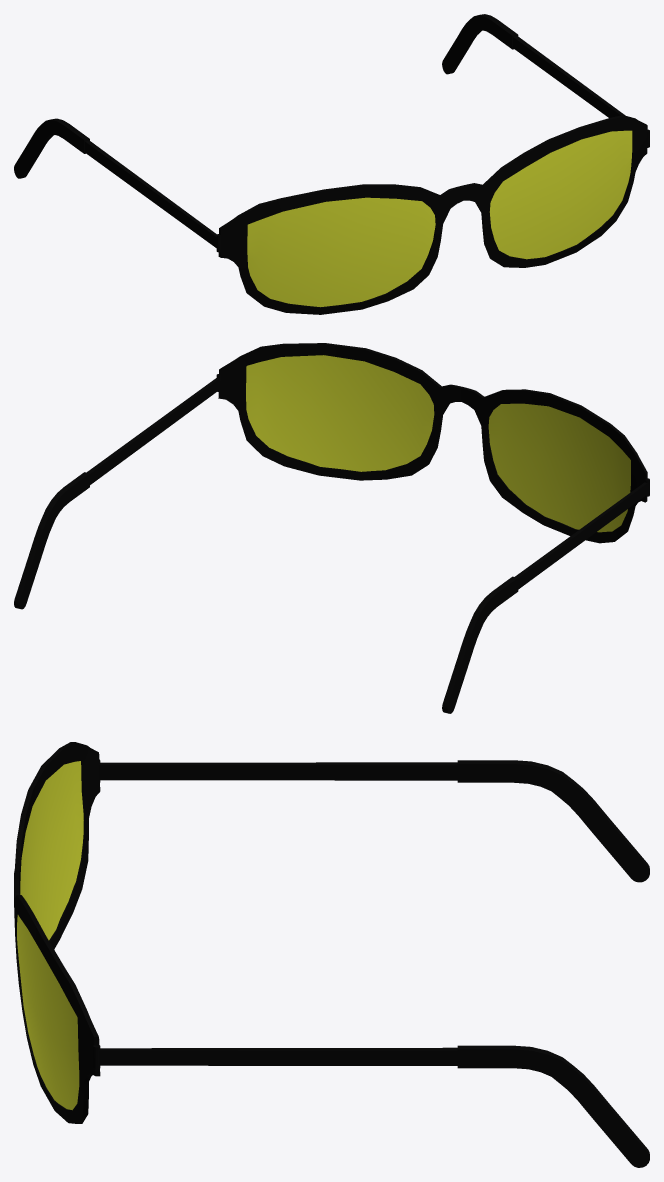
The model's file is glasses8.001.fbx.
3 renders of one model, top to bottom at view 1: azimuth 30°, elevation 25°; view 2: azimuth 150°, elevation 25°; view 3: azimuth 270°, elevation 25°, orthographic. The views are drawn at different scales.
Parts seen in each view (by area): view 1: glasses8.001; view 2: glasses8.001; view 3: glasses8.001.
Part boxes in pixels (<box>): glasses8.001: <box>14,14,649,314</box>; glasses8.001: <box>14,343,649,713</box>; glasses8.001: <box>14,742,649,1167</box>.
Bounding box in the file's own units: 1.99 × 0.5597 × 1.85.
